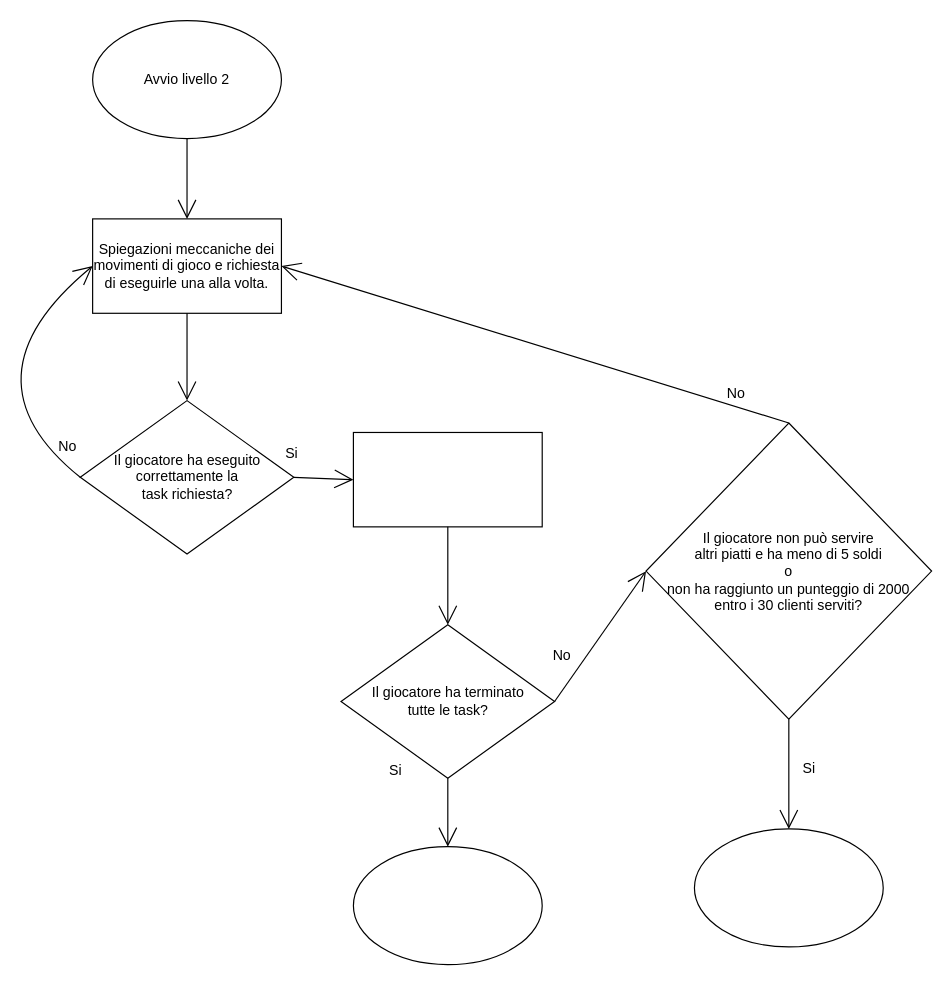
Some shapes in this 952 by 985 pixel diagram are drawn without their labels. The shapes that lost their labels are listed below. From the top down, each one's box as (x1, y1, x2, y2) in pixels, then its label:
(352, 431, 542, 527): Task successiva
(352, 845, 542, 965): Fine livello, sblocca livello 2
(693, 828, 883, 947): Fine livello, gameover
